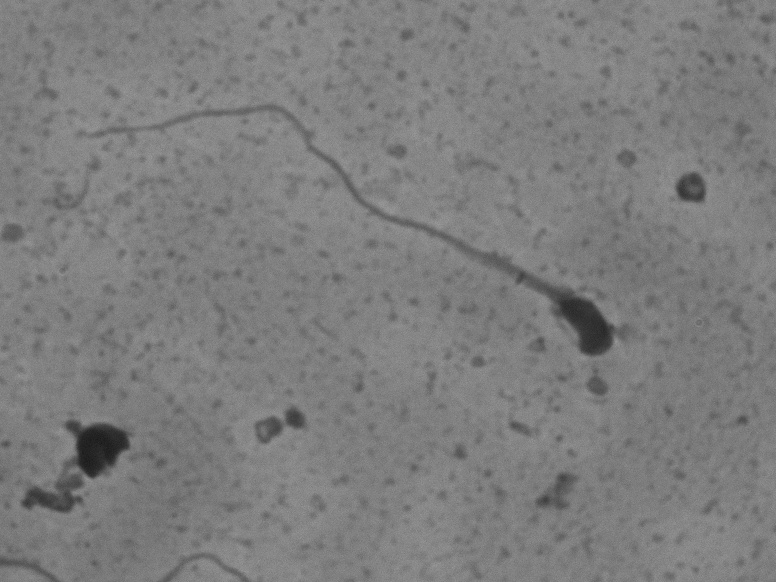Abnormal: (62, 79, 627, 411)
